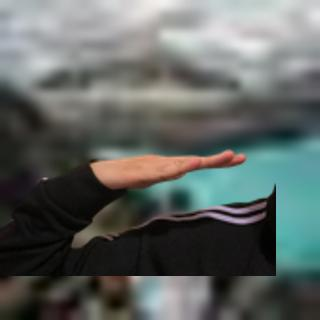Wait: (88, 143, 253, 195)
